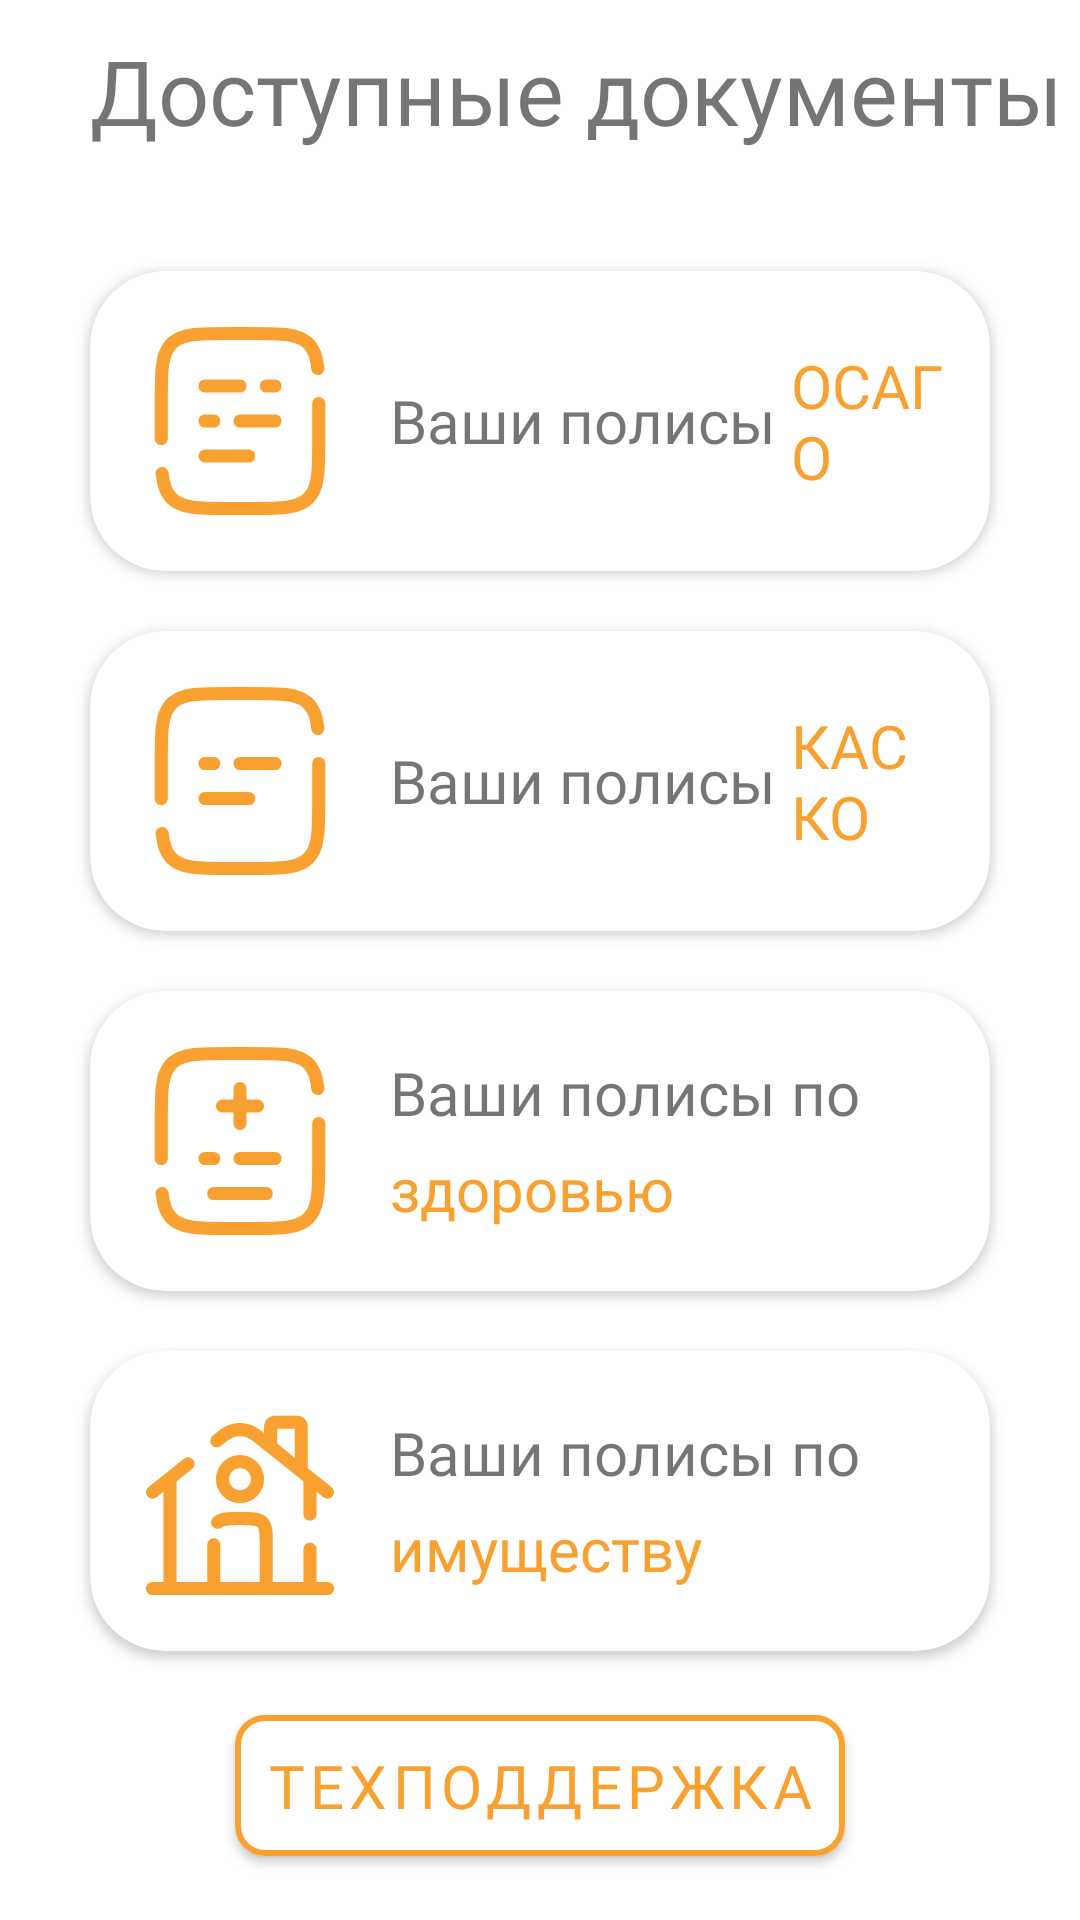

Named icons in this screenshot (1080*1920) and their bounding boxes, region(x1, y1, x2, y2):
document: region(154, 687, 326, 875)
document medicine: region(154, 1047, 326, 1235)
document text: region(154, 327, 326, 515)
home: region(146, 1415, 334, 1595)
